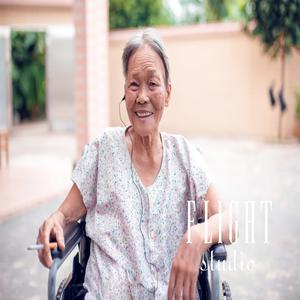cigarette: (26, 240, 58, 251)
